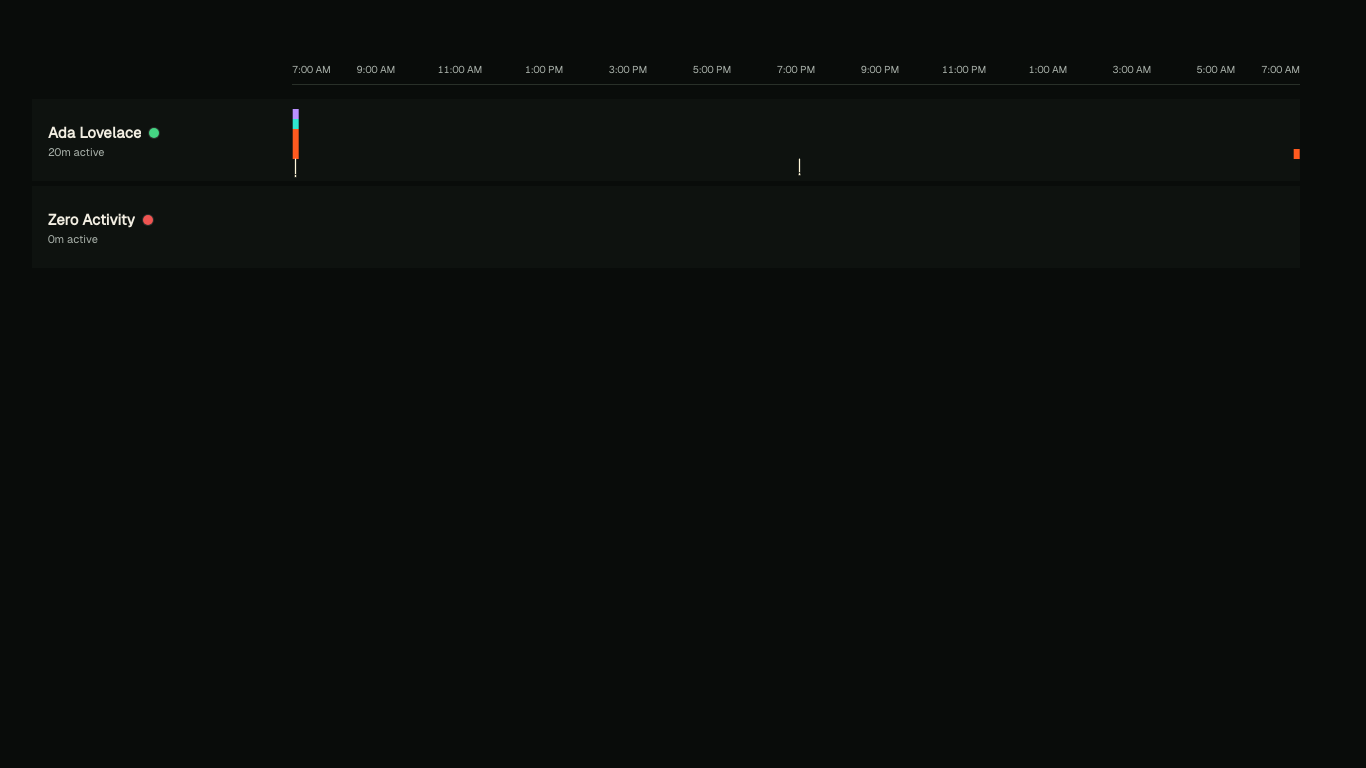
Scenario: FlameGraph › keeps prompt and stable work evidence visible when mutable role metadata is partial
Click the 1st element with class "recharts-wrapper". click: [796, 140]
box: [292,99,1300,181]
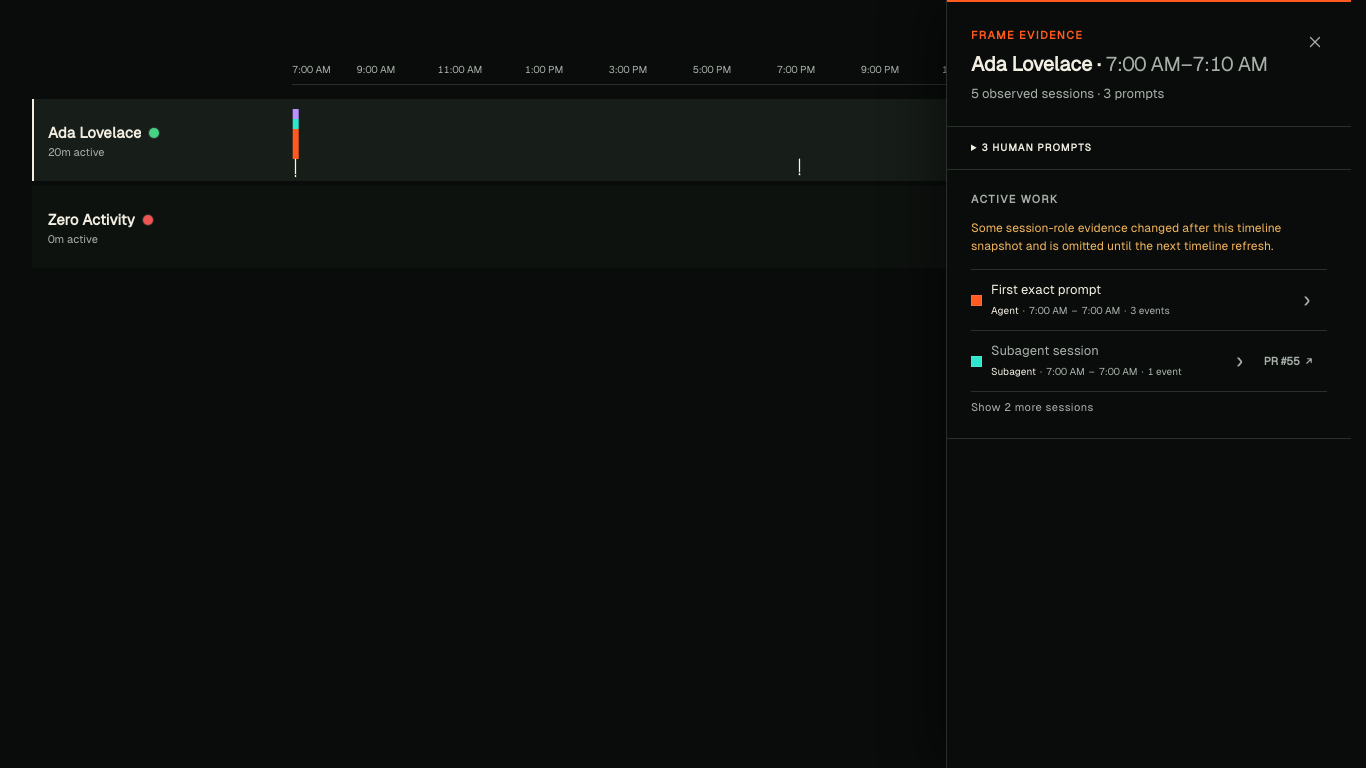
Check: the heading "Active work" is shown, box [971,193,1058,205]
